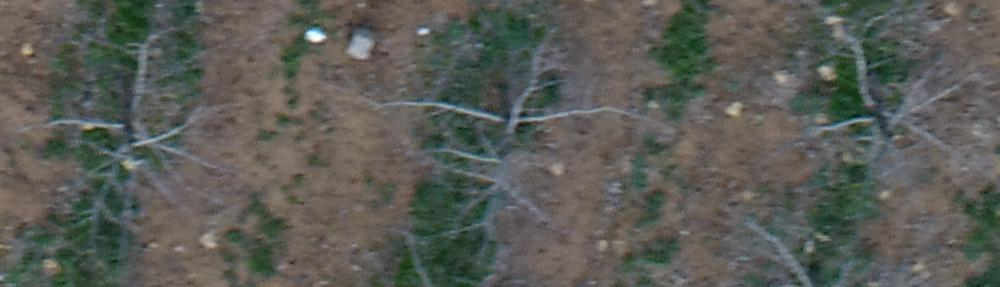apple: (371, 37, 671, 241), (29, 19, 248, 246), (759, 10, 990, 189)
